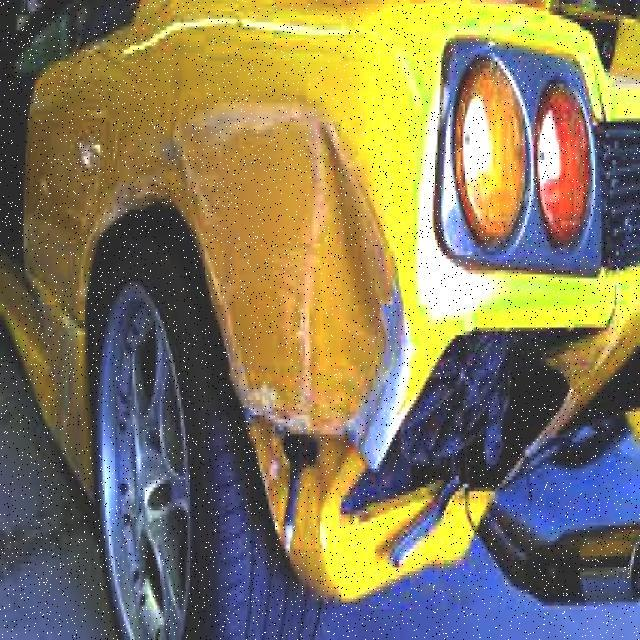car damage: (45, 99, 629, 609)
